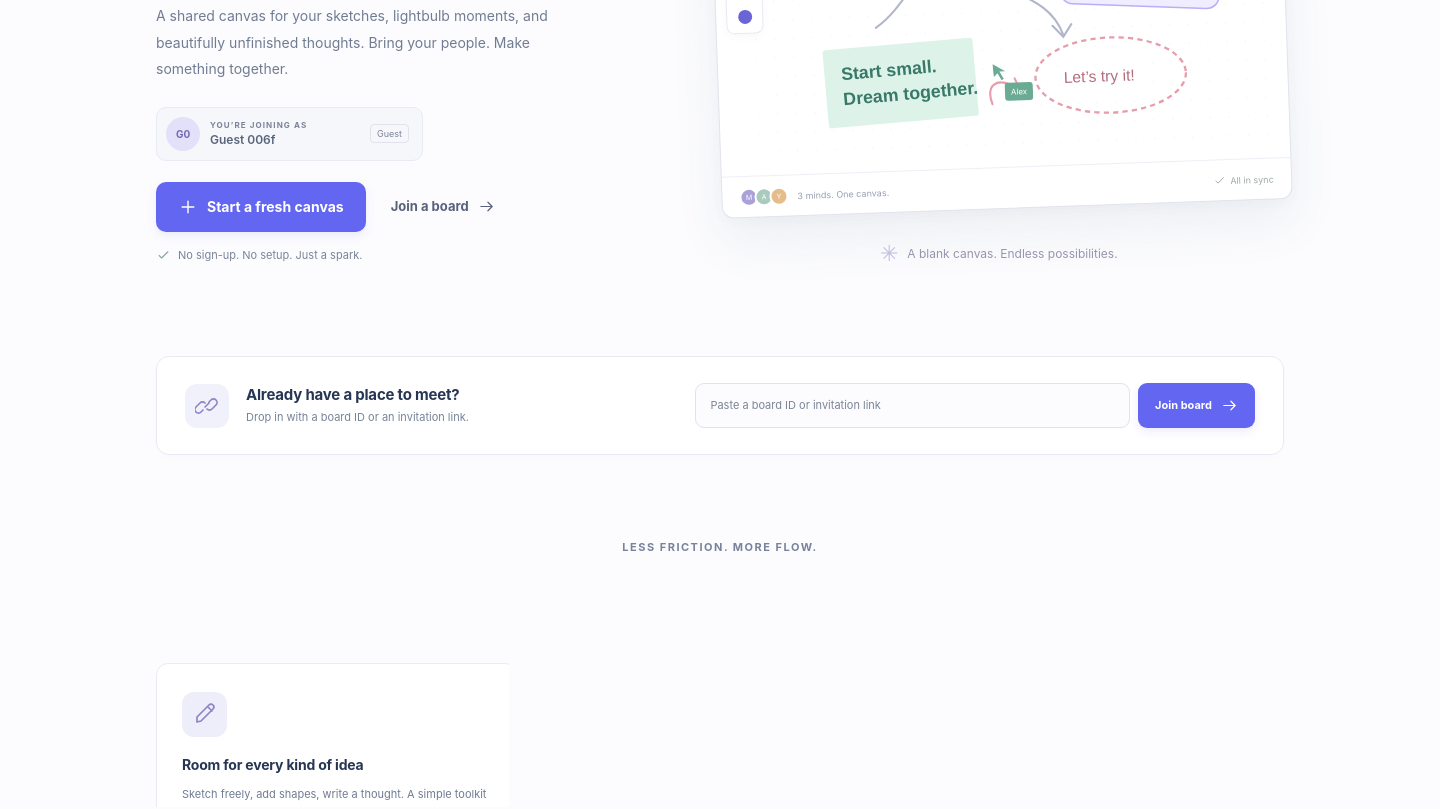
Scenario: guest entry › rejects an invalid invitation without navigating
The width and height of the screenshot is (1440, 809).
(page scrolled)
Type "../not-a-room" into the field named "Board ID or invitation URL". click: (913, 406)
box: [695,383,1130,428]
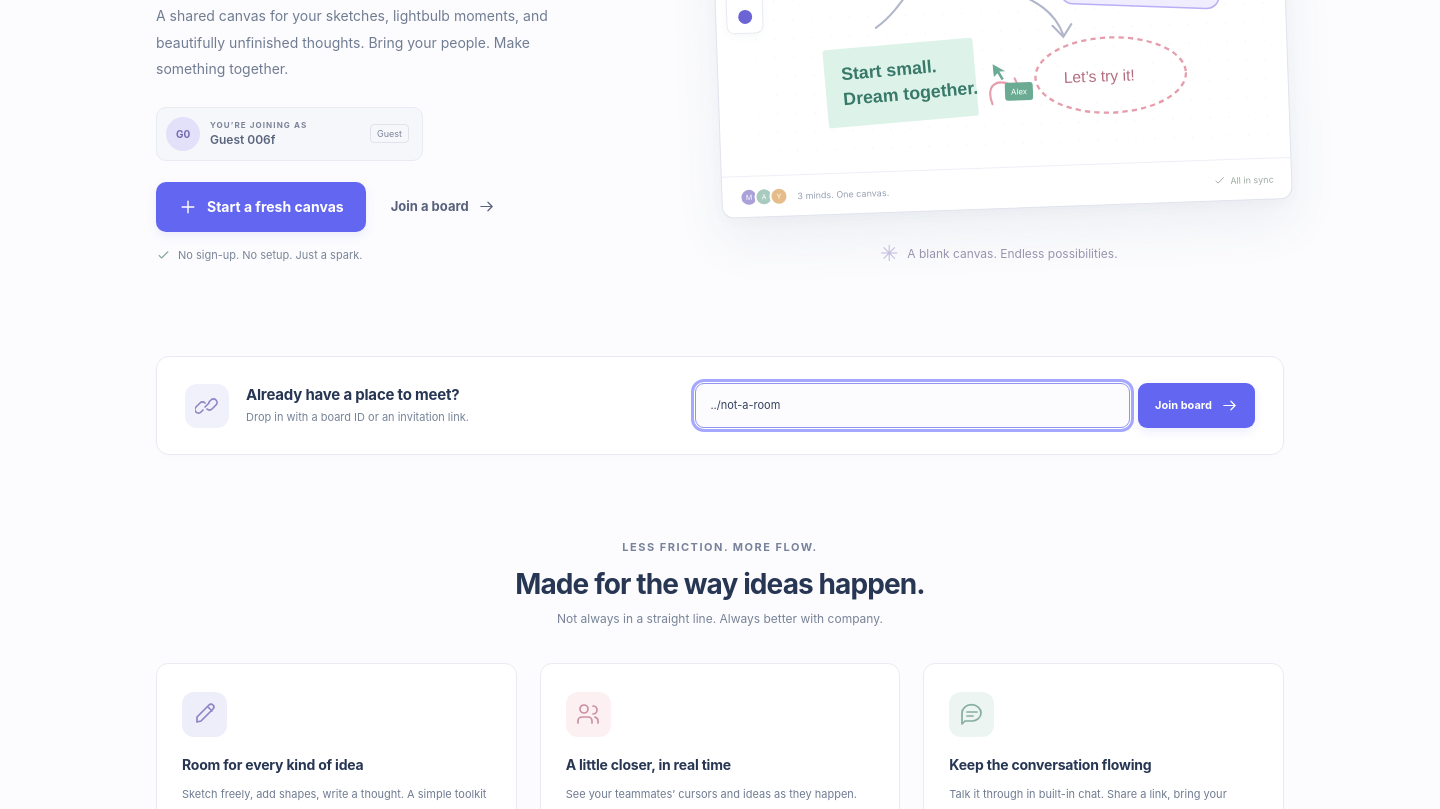
Click the button "Join board". click: (1197, 406)
box: [1138,383,1255,428]
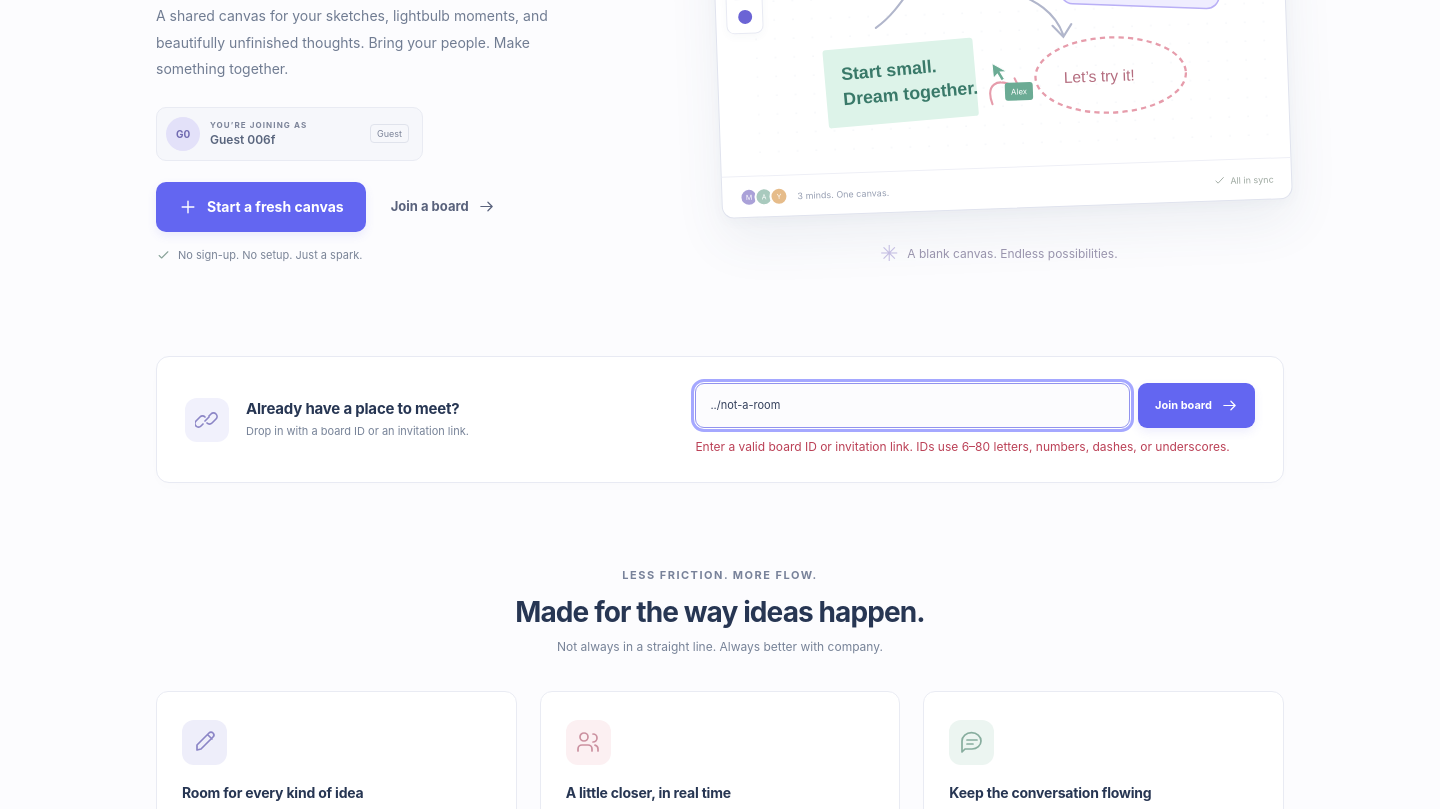
Check: the message shows "Enter a valid board ID", box [695,439,1230,454]
